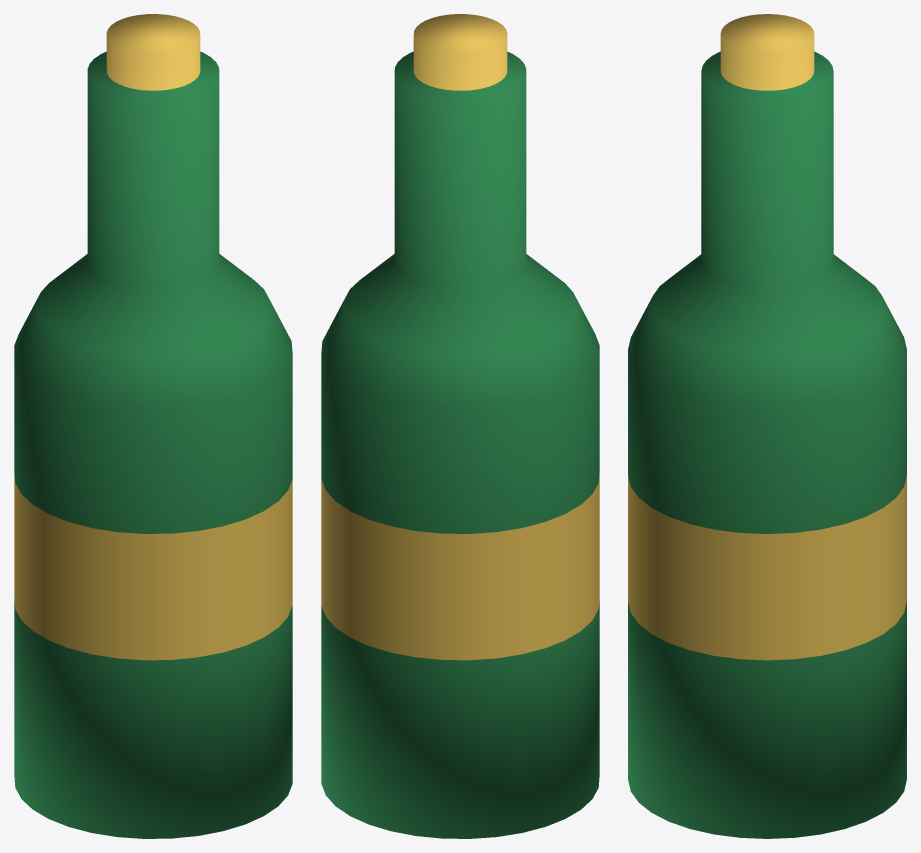
Rendered from botellamodelo.fbx.
The picture shows the model from 3 angles, left to right: view 1: azimuth 30°, elevation 25°; view 2: azimuth 150°, elevation 25°; view 3: azimuth 270°, elevation 25°; orthographic projection.
Visible parts, largest first — view 1: Cylinder; view 2: Cylinder; view 3: Cylinder.
Part boxes in pixels (x1,y1,x2,y2): Cylinder: (14,14,292,838); Cylinder: (321,14,599,838); Cylinder: (628,14,906,838).
Size of the model in its own units: 200 by 591 by 200.
